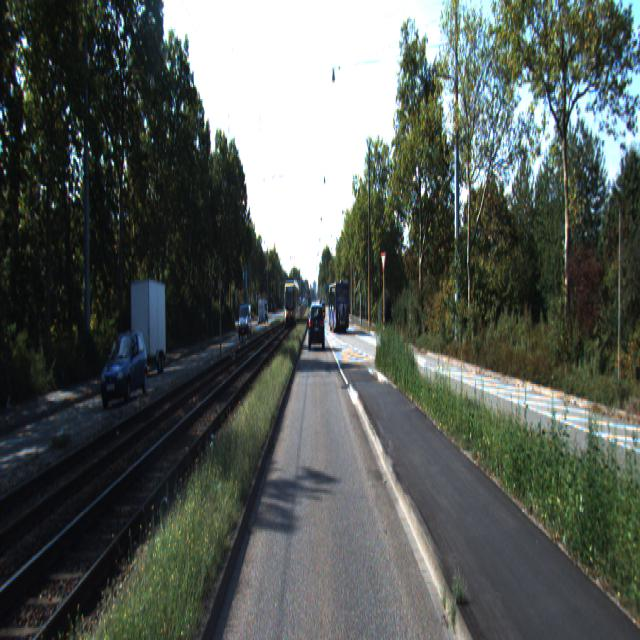Car: (99, 328, 150, 408), (130, 278, 167, 377), (328, 280, 350, 334), (308, 304, 324, 352), (238, 304, 253, 340)
